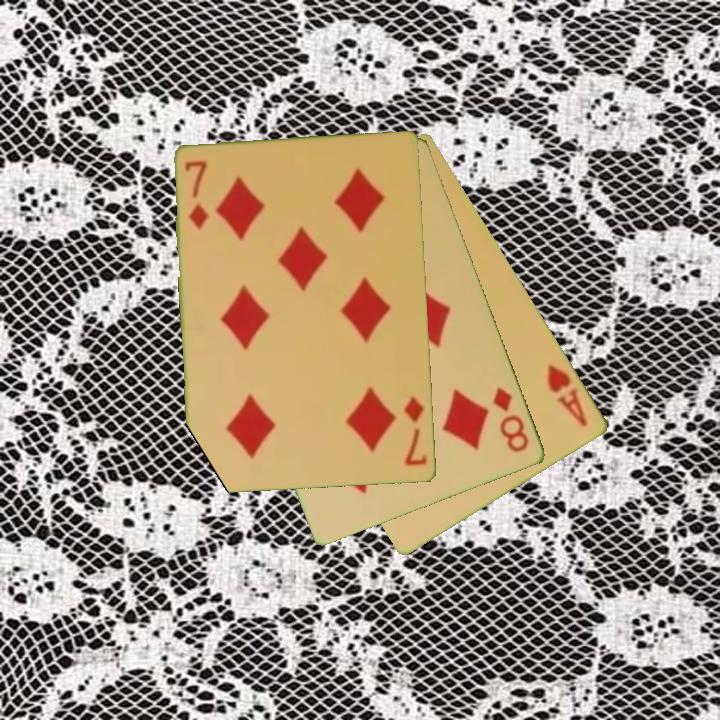7d: (401, 393, 431, 470), (182, 157, 212, 233)
8d: (489, 384, 533, 456)
Ah: (544, 361, 592, 430)
